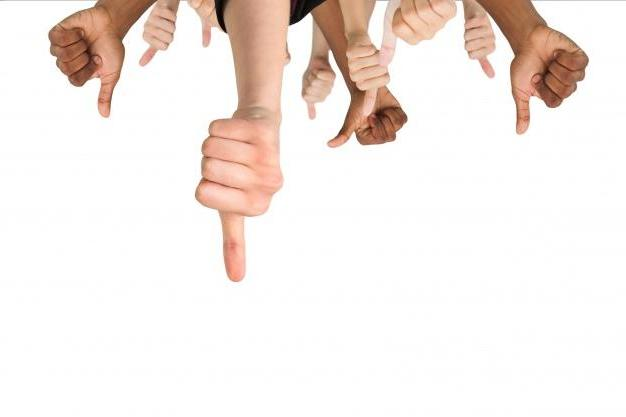thumbsdown: (194, 113, 289, 282), (46, 6, 127, 119), (508, 27, 590, 137), (377, 0, 459, 70), (326, 88, 409, 150), (343, 39, 392, 117), (138, 2, 181, 67), (462, 12, 497, 80), (301, 60, 337, 120)
